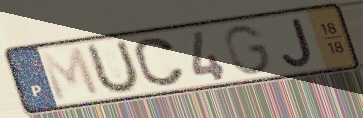4: (189, 28, 229, 83)
C: (131, 36, 188, 89)
G: (222, 23, 274, 77)
J: (279, 15, 316, 69)
M: (37, 45, 104, 104)
U: (85, 37, 142, 98)
